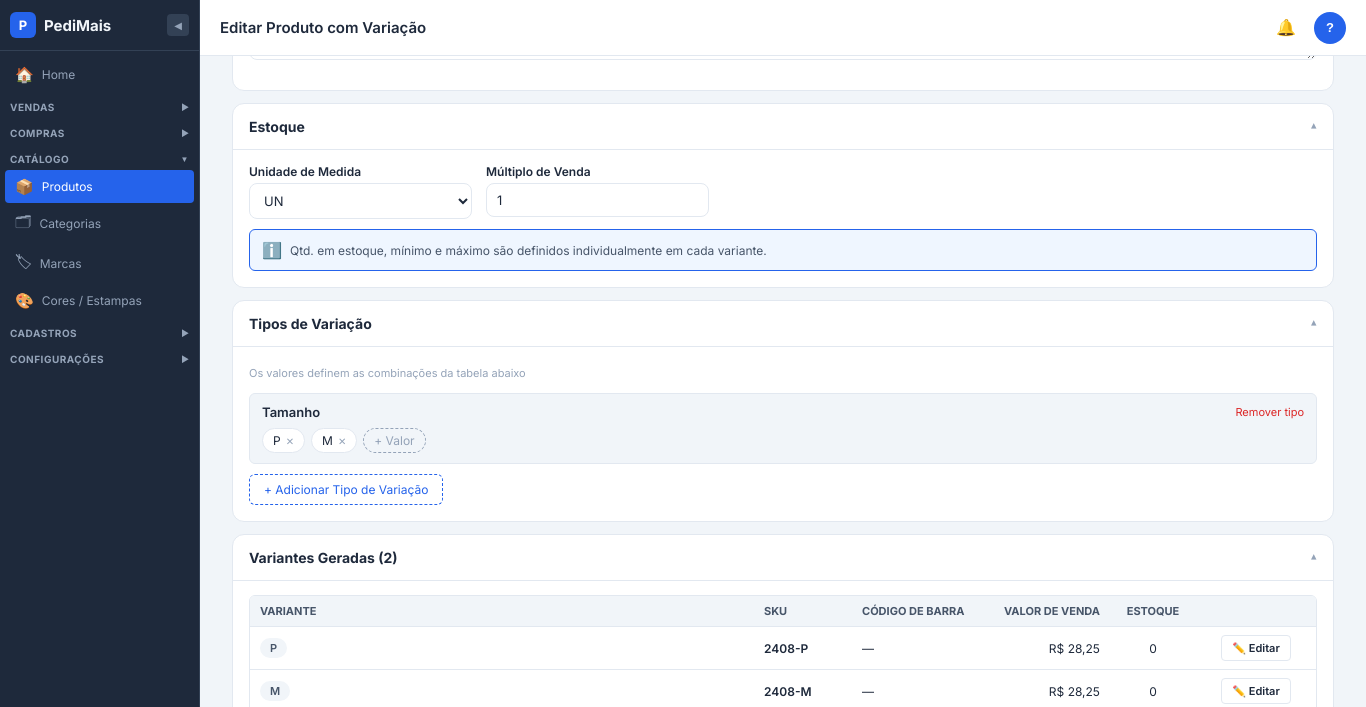
Test: ProductVariationFormView › falls back to reconstructing Tamanho from children when a legacy Variação has no persisted axes
(page scrolled)
# The reconstructed matrix is fully live, same as a persisted one.
Click the text with test id "var-tipo-remover-0" at (1270, 412), box [1235,405,1304,419]
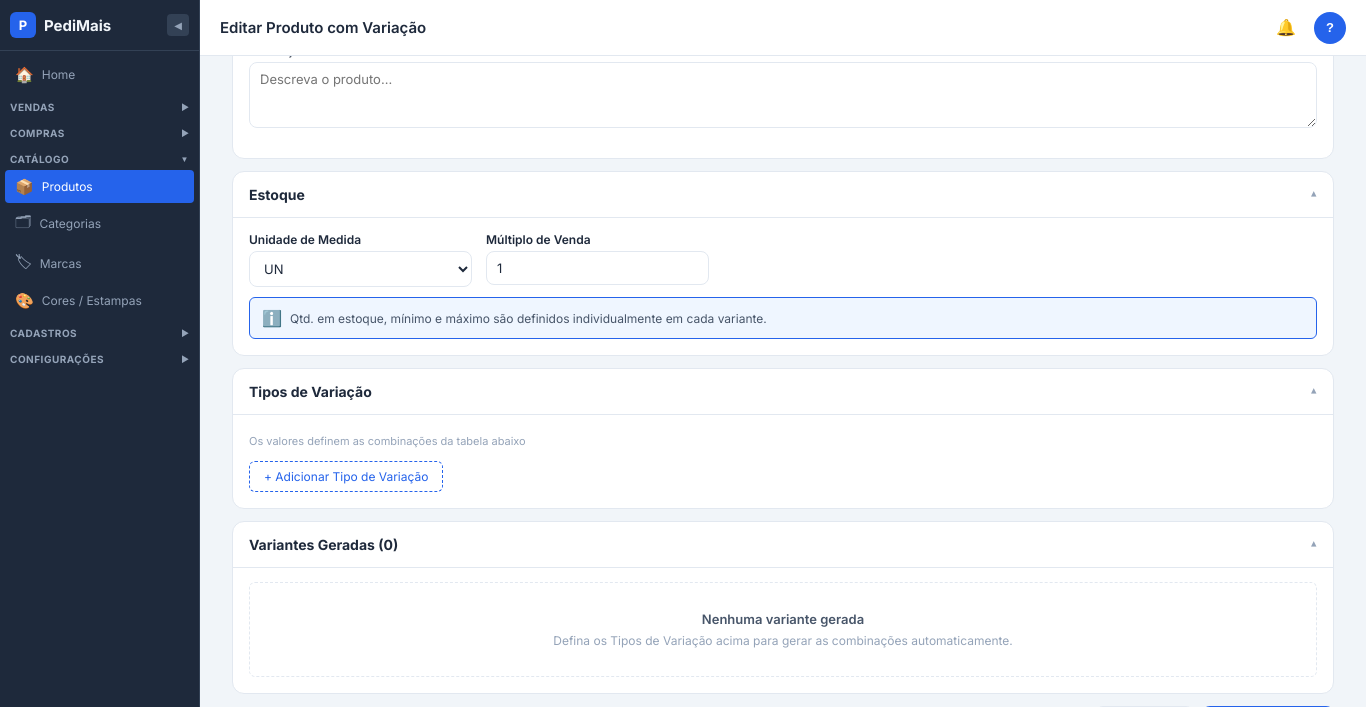
expect the text "Variantes Geradas (0)" is shown: met, box [249,536,398,553]
